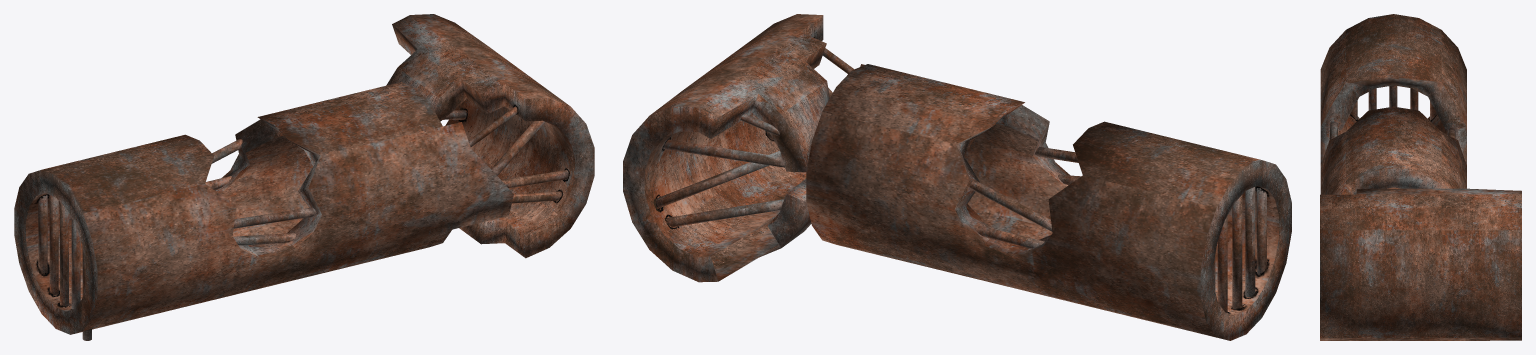
The model's file is tuberia_2.obj.
The picture shows the model from 3 angles, left to right: view 1: azimuth 30°, elevation 25°; view 2: azimuth 150°, elevation 25°; view 3: azimuth 270°, elevation 25°; orthographic projection. The views are drawn at different scales.
Parts seen in each view (by area): view 1: Tuberia2; view 2: Tuberia2; view 3: Tuberia2.
Boxes of the visible parts, <box> form: Tuberia2: <box>14,14,594,340</box>; Tuberia2: <box>623,14,1291,340</box>; Tuberia2: <box>1320,14,1521,340</box>.
Bounding box in the file's own units: 83.04 × 25.48 × 33.24.
Materials: 1 (1 with a texture image).
